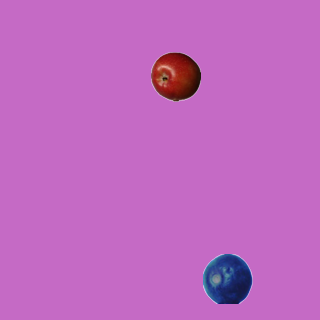Apple Braeburn: (150, 51, 200, 101)
Huckleberry: (202, 253, 252, 303)
